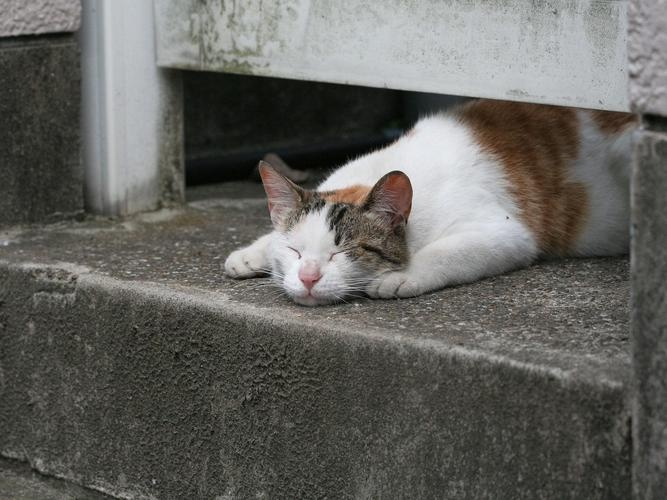cat: (225, 97, 632, 306)
